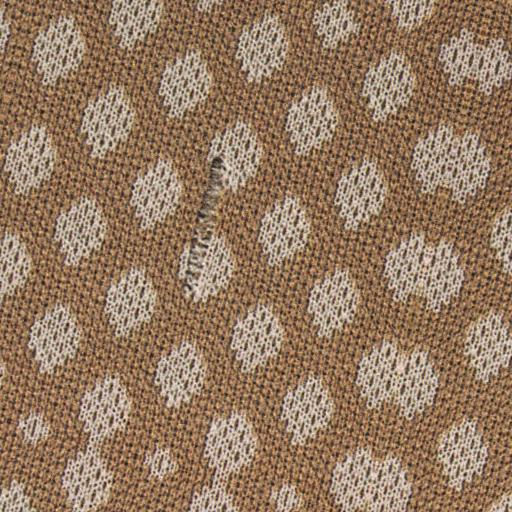slub: (180, 144, 230, 296)
